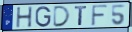5: (111, 4, 125, 26)
D: (52, 5, 72, 28)
F: (91, 5, 109, 27)
G: (35, 6, 52, 28)
H: (16, 6, 34, 29)
T: (74, 6, 89, 27)
